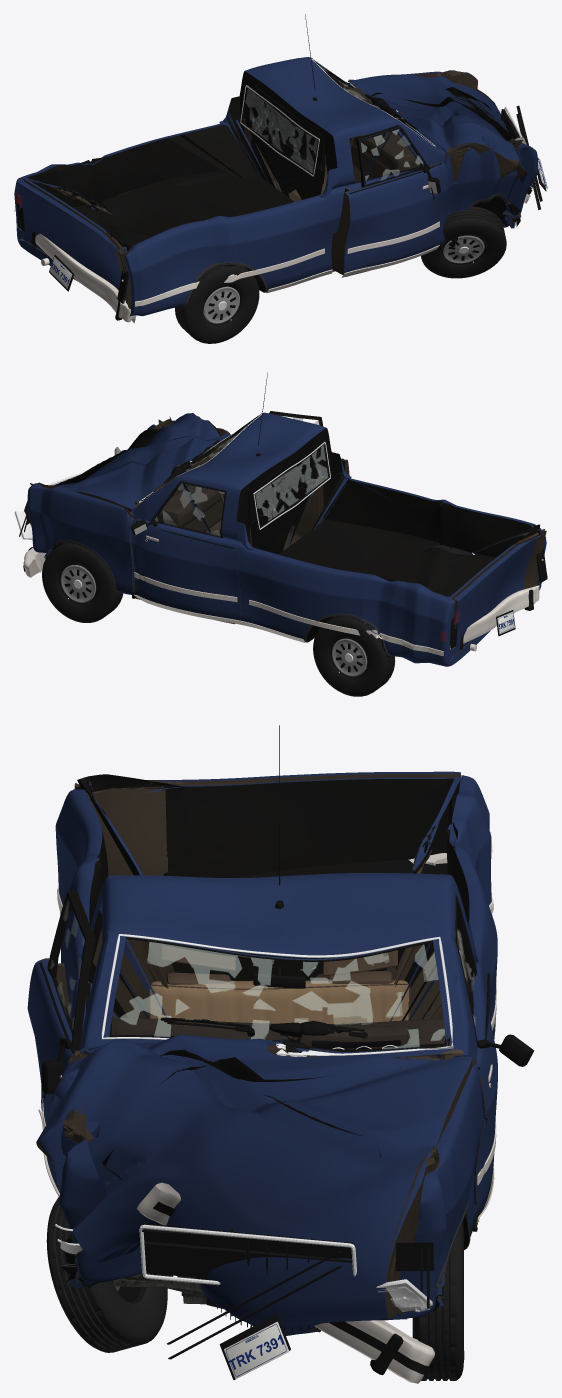
The model's file is pickup87_front_corner_R_d2.glb.
The picture shows the model from 3 angles, top to bottom: view 1: azimuth 30°, elevation 25°; view 2: azimuth 150°, elevation 25°; view 3: azimuth 270°, elevation 25°; orthographic projection. The views are drawn at different scales.
Visible parts, largest first — view 1: Body, Door_FR, Hood, Tailgate, Wheel_RR_mesh, Wheel_FR_mesh, Glass, Interior, Trim, Ends, Bumper_R, Trim_FR (+1 smaller); view 2: Body, Door_FL, Hood, Wheel_RL_mesh, Wheel_FL_mesh, Tailgate, Glass, Trim, Interior, Trim_FL, Bumper_R, Ends (+2 smaller); view 3: Body, Hood, Interior, Ends, Glass, Wheel_FR_mesh, Door_FR, Bumper_F, Wheel_FL_mesh, Door_FL, Trim, Trim_FL (+3 smaller).
Boxes of the visible parts, left/top/right/bottom form: Body: left=14, top=57, right=537, bottom=317; Door_FR: left=331, top=125, right=446, bottom=274; Hood: left=348, top=74, right=532, bottom=203; Tailgate: left=16, top=179, right=128, bottom=306; Wheel_RR_mesh: left=175, top=265, right=259, bottom=343; Wheel_FR_mesh: left=421, top=206, right=506, bottom=278; Glass: left=240, top=58, right=435, bottom=176; Interior: left=292, top=87, right=418, bottom=197; Trim: left=135, top=14, right=521, bottom=306; Ends: left=16, top=105, right=547, bottom=303; Bumper_R: left=31, top=231, right=136, bottom=323; Trim_FR: left=341, top=127, right=441, bottom=277; Body: left=27, top=412, right=546, bottom=666; Door_FL: left=131, top=481, right=241, bottom=620; Hood: left=24, top=413, right=229, bottom=526; Wheel_RL_mesh: left=313, top=616, right=395, bottom=696; Wheel_FL_mesh: left=42, top=542, right=123, bottom=622; Tailgate: left=452, top=531, right=546, bottom=656; Glass: left=139, top=414, right=330, bottom=529; Trim: left=45, top=372, right=476, bottom=656; Interior: left=153, top=443, right=227, bottom=535; Trim_FL: left=131, top=481, right=240, bottom=624; Bumper_R: left=459, top=585, right=539, bottom=649; Ends: left=14, top=471, right=547, bottom=649; Body: left=50, top=774, right=497, bottom=1318; Hood: left=36, top=1035, right=473, bottom=1335; Interior: left=109, top=945, right=445, bottom=1049; Ends: left=55, top=1224, right=433, bottom=1379; Glass: left=101, top=934, right=453, bottom=1056; Wheel_FR_mesh: left=46, top=1196, right=167, bottom=1352; Door_FR: left=27, top=890, right=95, bottom=1192; Bumper_F: left=136, top=1182, right=434, bottom=1383; Wheel_FL_mesh: left=412, top=1221, right=464, bottom=1380; Door_FL: left=455, top=894, right=497, bottom=1216; Trim: left=56, top=725, right=496, bottom=1327; Trim_FL: left=455, top=895, right=534, bottom=1222.
Size of the model in its own units: 4.97 by 2.57 by 2.31.
34 materials, 5 textured.
